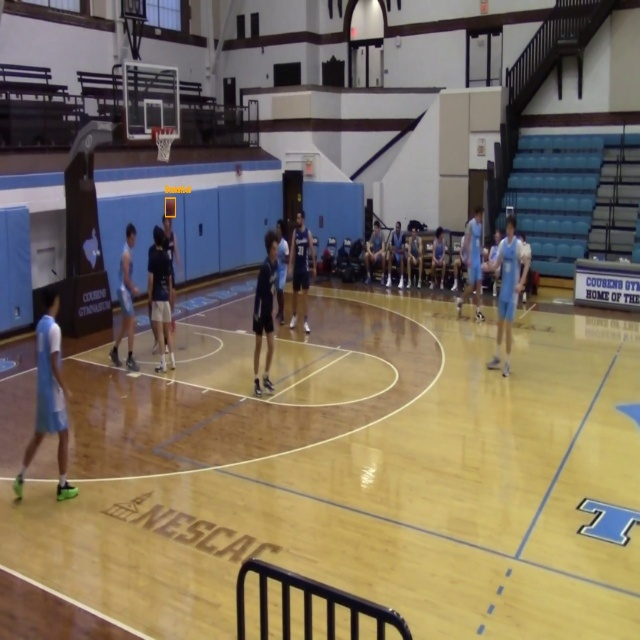Basketball: (165, 198, 175, 216)
